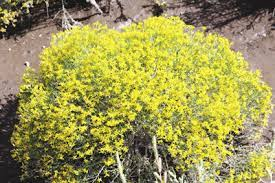snakeweed: (100, 54, 192, 128)
